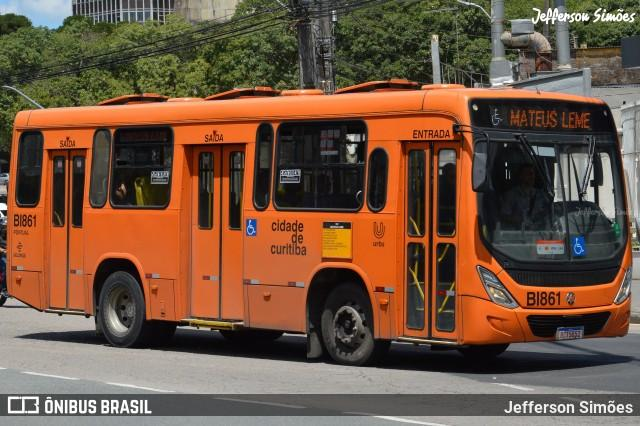MATEUS LEME: (505, 106, 594, 132)
